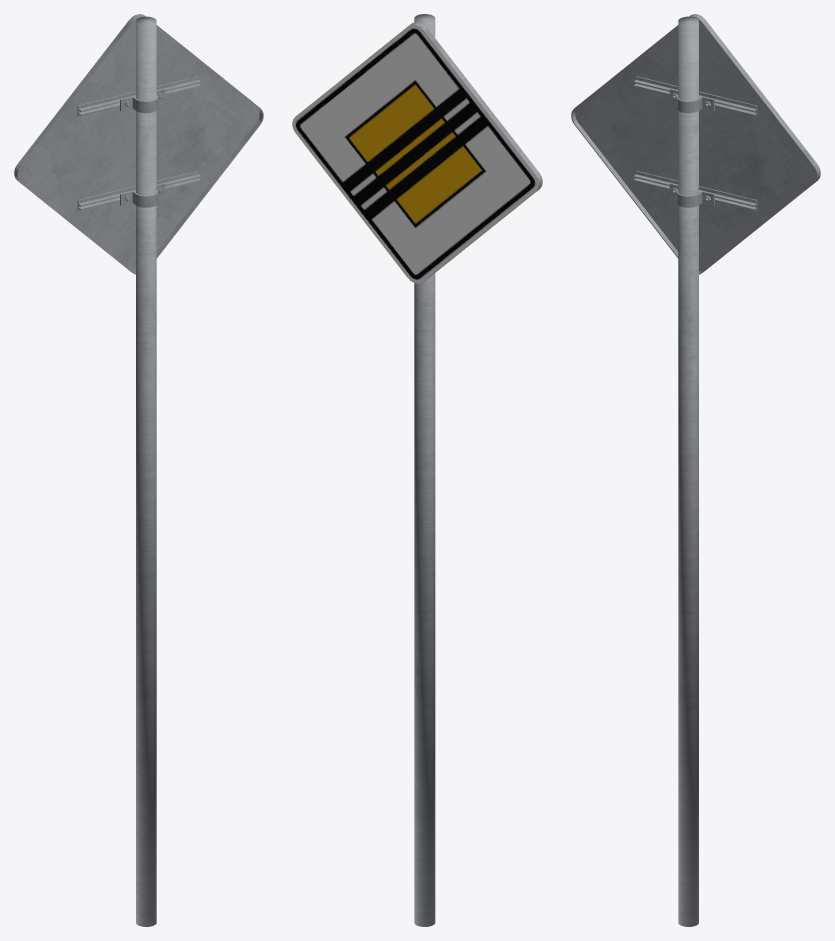
Rendered from End_of_main_road.fbx.
The picture shows the model from 3 angles, left to right: view 1: azimuth 30°, elevation 25°; view 2: azimuth 150°, elevation 25°; view 3: azimuth 330°, elevation 25°; orthographic projection.
Visible parts, largest first — view 1: End of main road; view 2: End of main road; view 3: End of main road.
Boxes of the visible parts, <box> form: End of main road: <box>14,14,263,926</box>; End of main road: <box>292,14,542,926</box>; End of main road: <box>571,14,820,926</box>.
Size of the model in its own units: 0.0869 by 0.8171 by 2.86.
